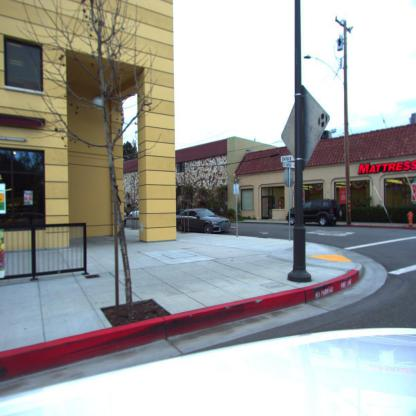car: (176, 208, 230, 234)
stop sign: (282, 90, 330, 160)
truck: (289, 200, 341, 228)
